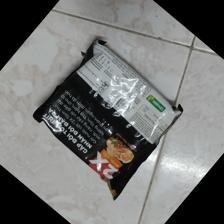3mien: (33, 37, 185, 202)
